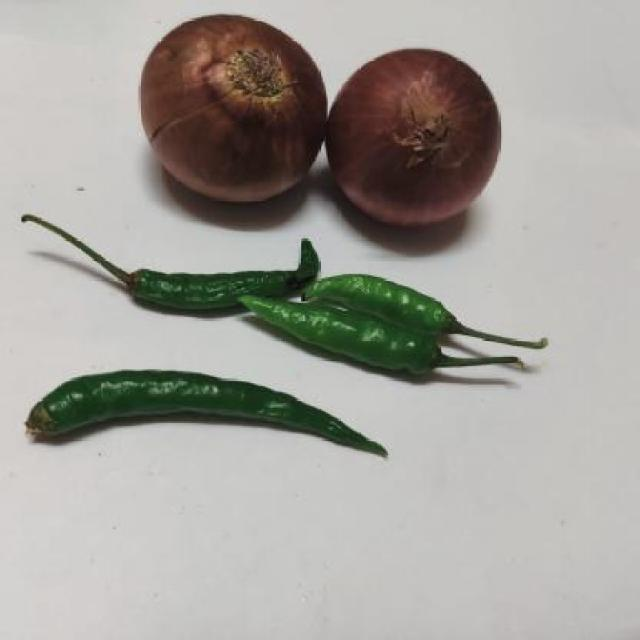Green Chili: (15, 362, 408, 488), (232, 266, 556, 380), (34, 210, 336, 318)
Onion: (314, 35, 538, 242), (131, 9, 337, 212)
